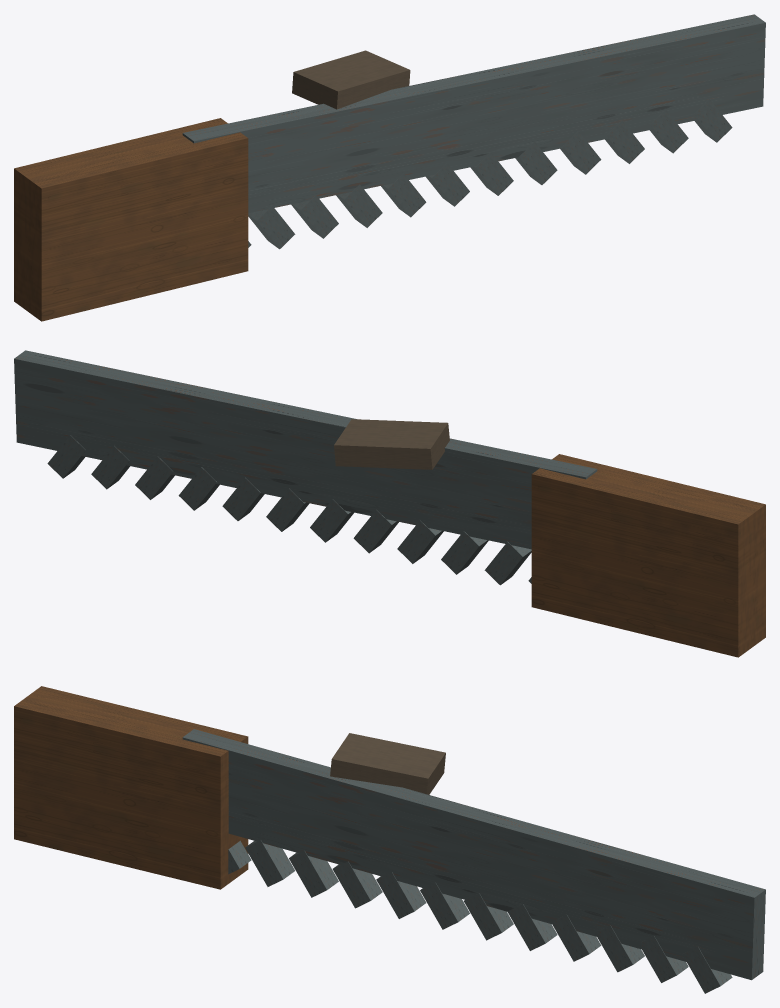
Rendered from ax-tool-003_hand_saw__worn.obj.
3 views of the same model, one above another, from view 1: azimuth 30°, elevation 25°; view 2: azimuth 150°, elevation 25°; view 3: azimuth 330°, elevation 25° (orthographic).
Visible parts, largest first — view 1: ax-tool-003_hand_saw__worn; view 2: ax-tool-003_hand_saw__worn; view 3: ax-tool-003_hand_saw__worn.
Boxes of the visible parts, box(x1,y1,x2,y2) form: ax-tool-003_hand_saw__worn: box(14, 14, 765, 321); ax-tool-003_hand_saw__worn: box(14, 350, 765, 657); ax-tool-003_hand_saw__worn: box(14, 686, 765, 993).
Bounding box in the file's own units: 0.5497 × 0.1057 × 0.0701.
3 materials, 3 textured.
